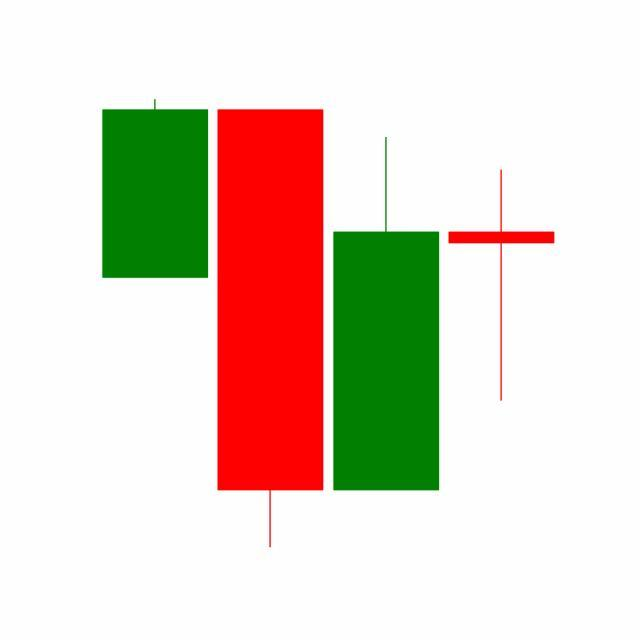Spinning Top: (444, 167, 560, 404)
